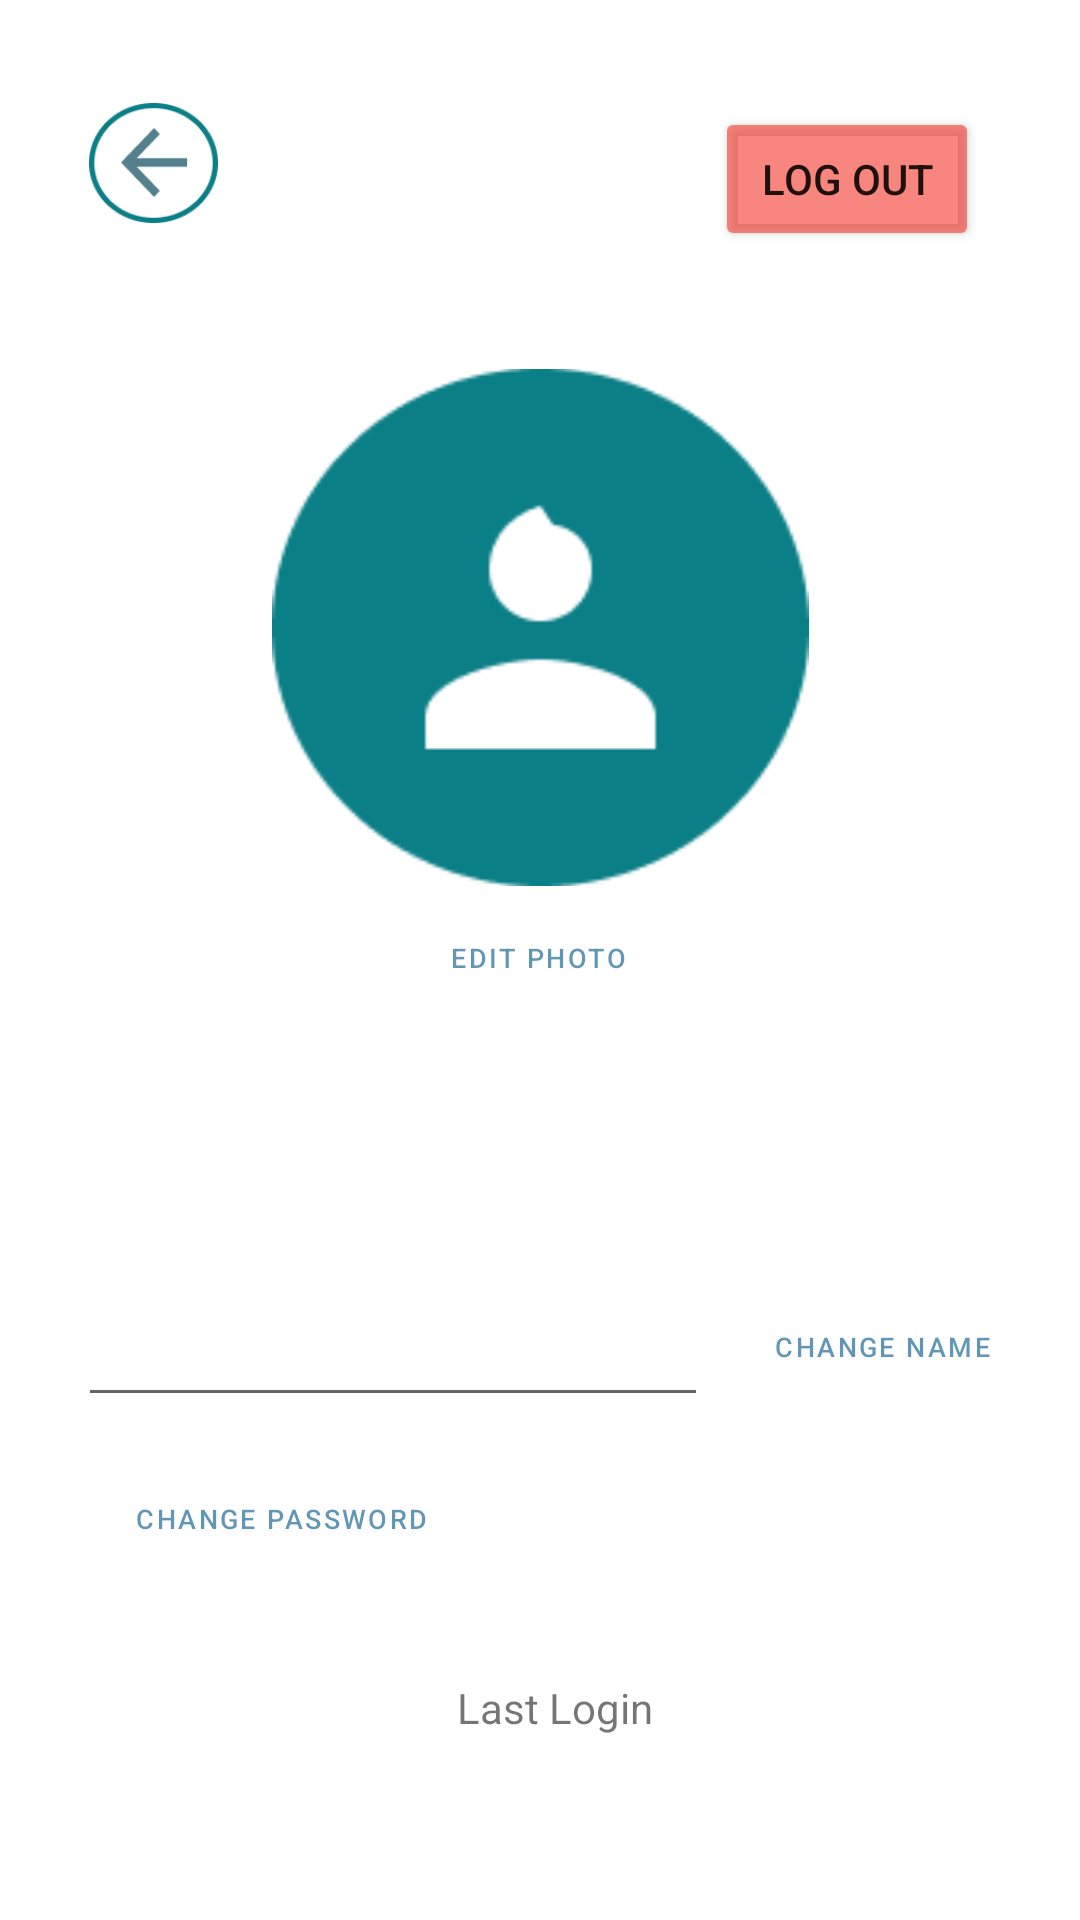

Where icons sit on this 1080px×1920px app screen, as [x1=x1, y1=y1, x2=x2, y2=y2]:
backarrow: [x1=89, y1=103, x2=218, y2=223]
